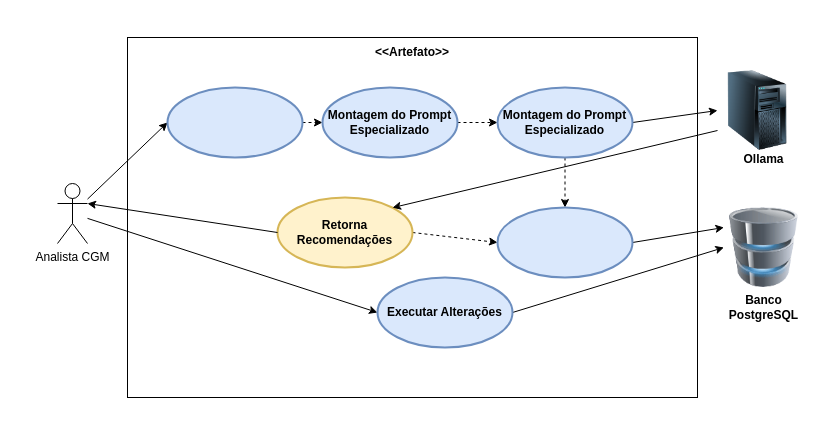
The diagram is 834 pixels wide and 444 high, and some of its shapes have lost their labels. Each missing label, with the centre of its shape:
"Executa Aplicação" belongs at pixel 234 122.
"Salvar Dados da Situação" belongs at pixel 564 242.
